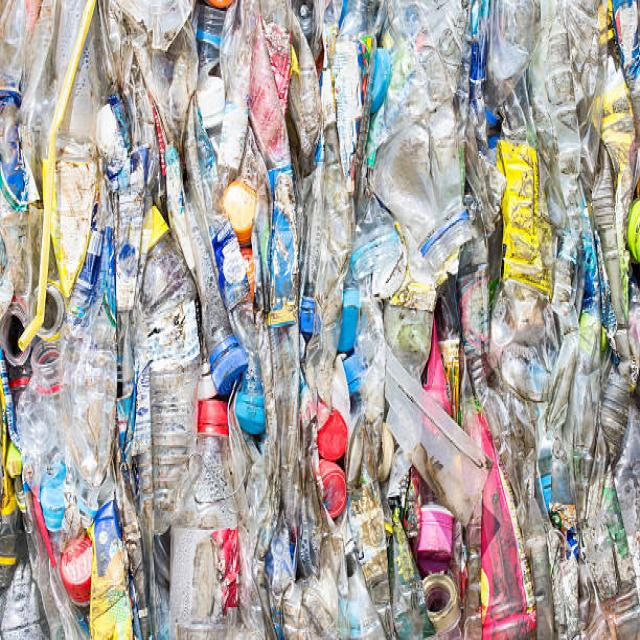plastic: (26, 63, 623, 629)
